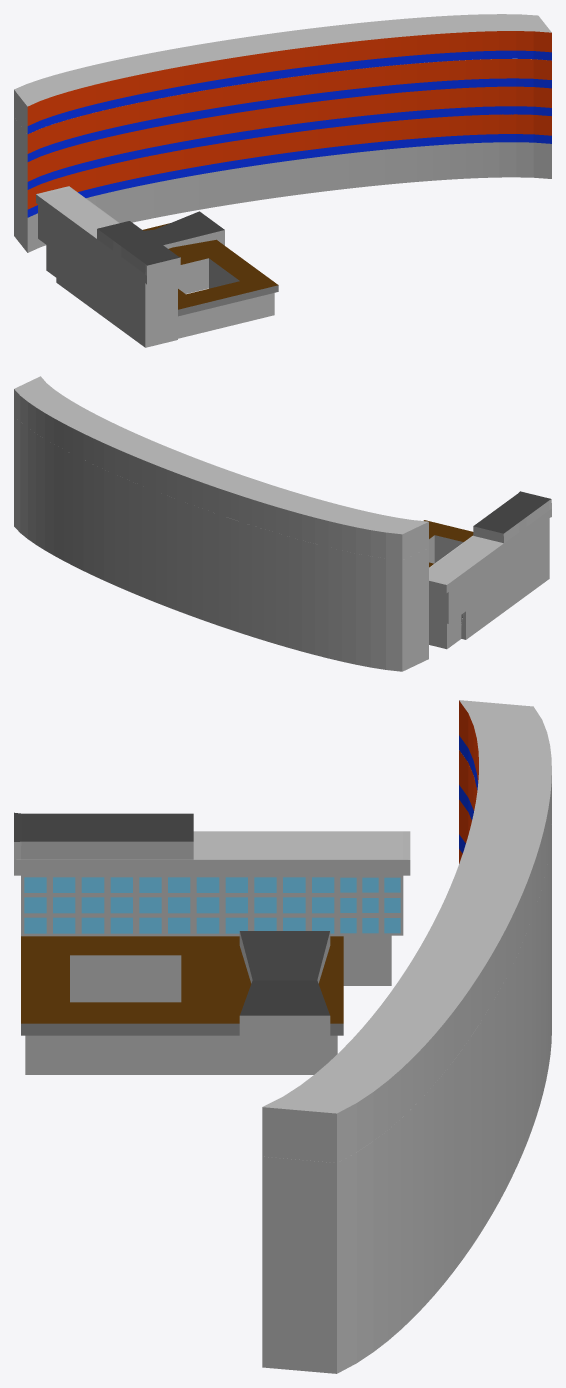
Rendered from campus.gltf.
3 views of the same model, one above another, from view 1: azimuth 30°, elevation 25°; view 2: azimuth 150°, elevation 25°; view 3: azimuth 270°, elevation 25° (orthographic). The views are drawn at different scales.
Bounding box in the file's own units: 0.423 × 0.1255 × 0.2297.
